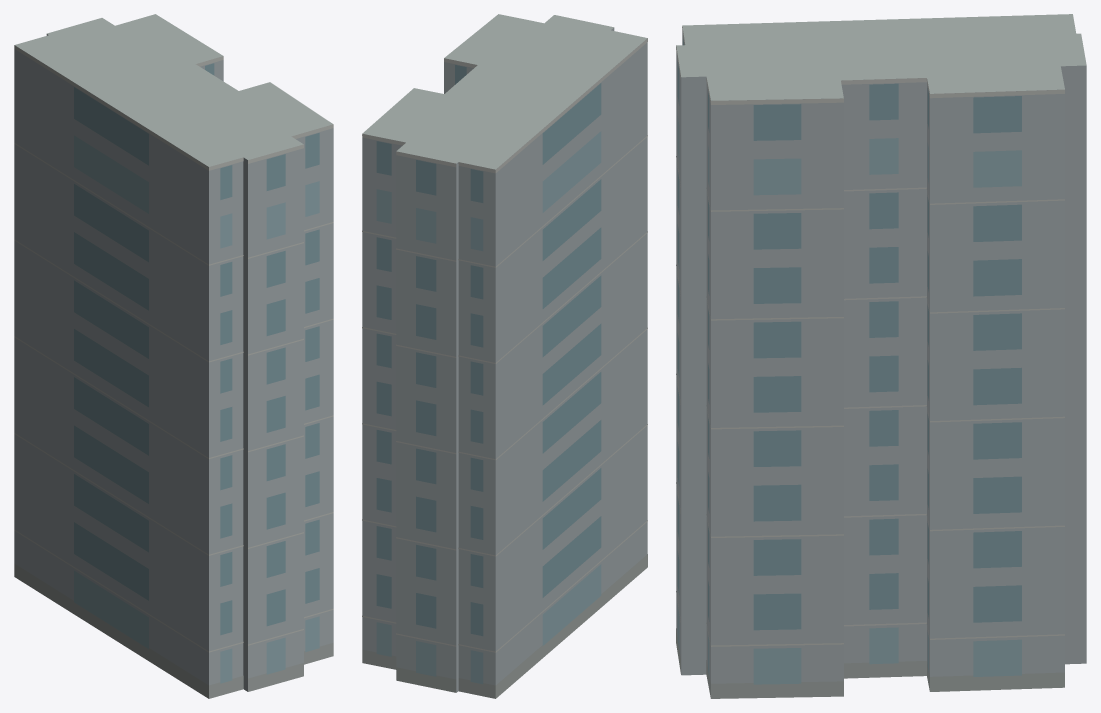
The model's file is survey-upis-32748524.glb.
3 renders of one model, left to right at view 1: azimuth 30°, elevation 25°; view 2: azimuth 150°, elevation 25°; view 3: azimuth 270°, elevation 25°, orthographic. The views are drawn at different scales.
Visible parts, largest first — view 1: survey-upis-32748524.tmp; view 2: survey-upis-32748524.tmp; view 3: survey-upis-32748524.tmp.
Part boxes in pixels (left/top/right/bottom): survey-upis-32748524.tmp: left=14, top=14, right=333, bottom=698; survey-upis-32748524.tmp: left=362, top=14, right=647, bottom=698; survey-upis-32748524.tmp: left=676, top=14, right=1086, bottom=698.
Bounding box in the file's own units: 10.57 × 33.9 × 21.11.
